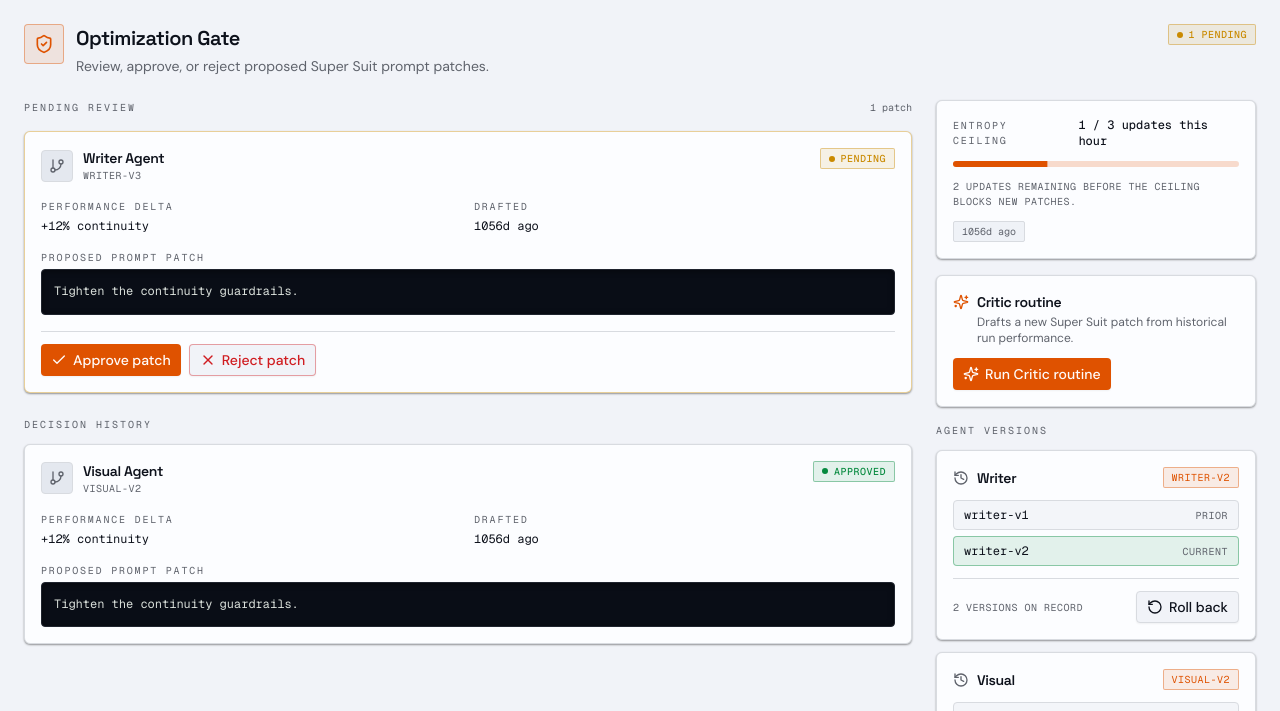
Test: OptimizationPage › approves a pending patch through the backend
Click the button "Approve patch" at coordinates (111, 360), box [41, 344, 181, 376]
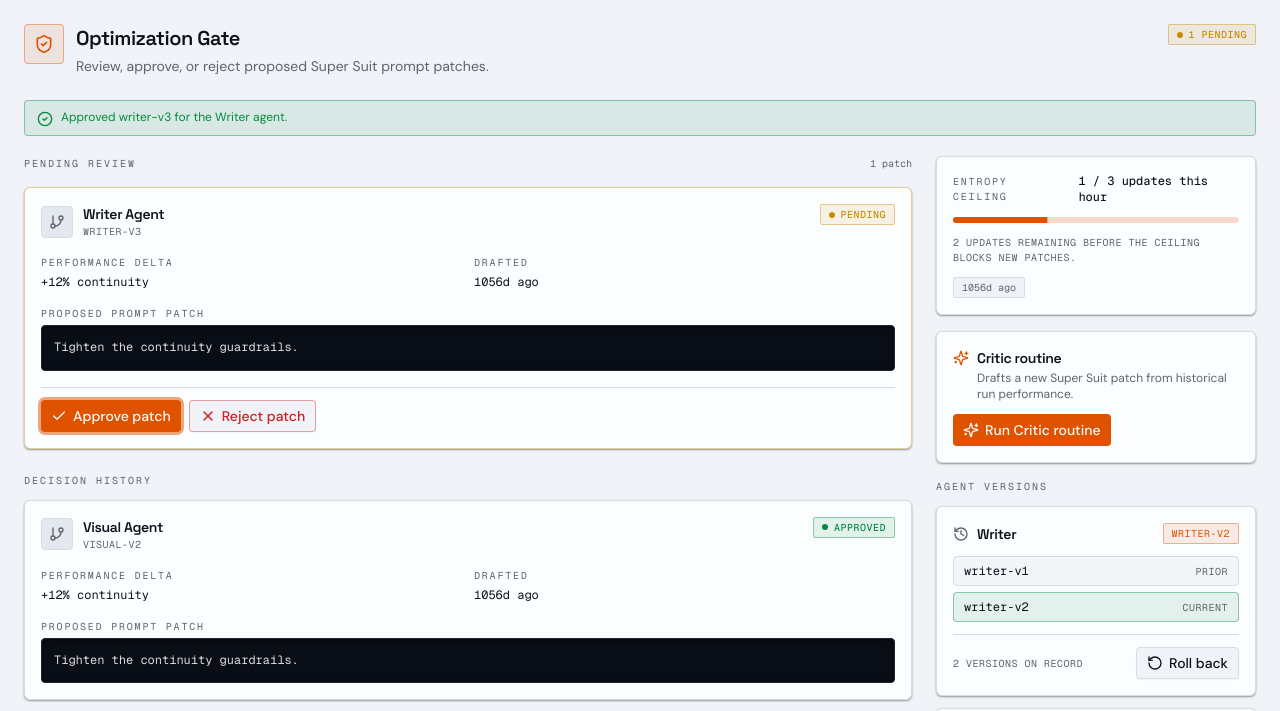
Check: the element with test id "optimization.action.success_state" shows "Approved writer-v3", box [61, 109, 287, 125]
